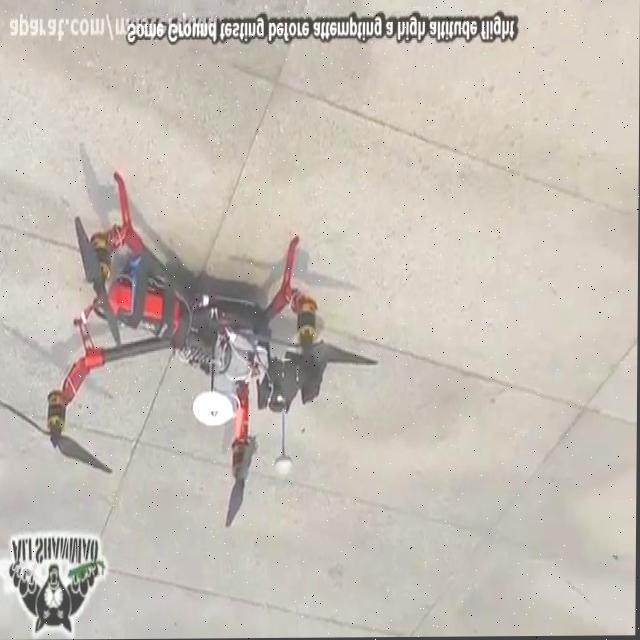drone: (0, 163, 381, 536)
